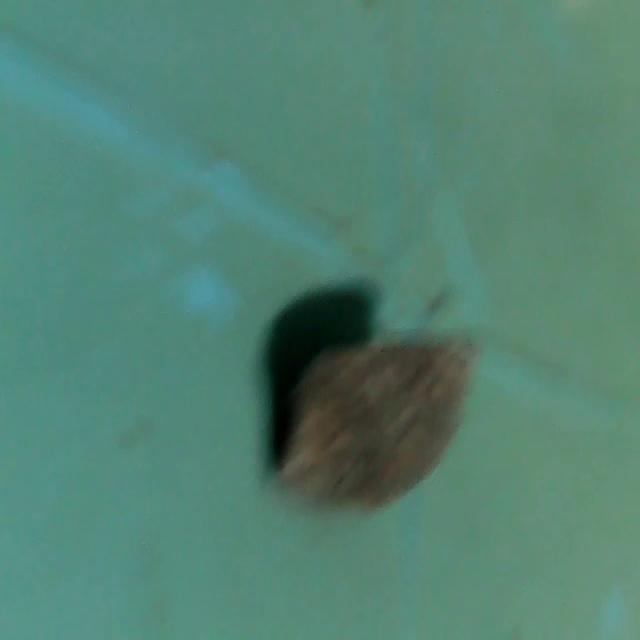rock: (274, 319, 478, 527)
